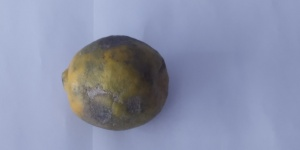BAD: (62, 35, 168, 132)
